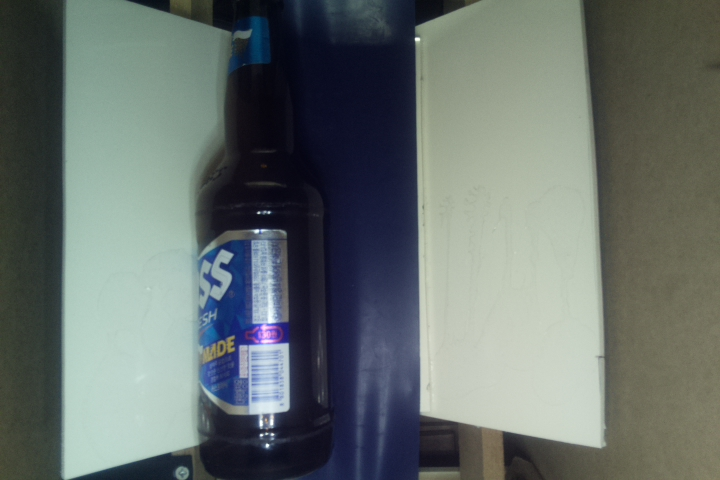makju: (190, 1, 334, 480)
